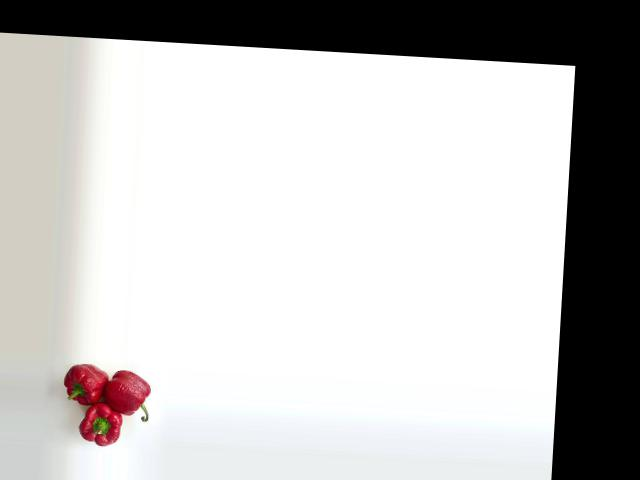bell_pepper: (106, 367, 162, 424)
